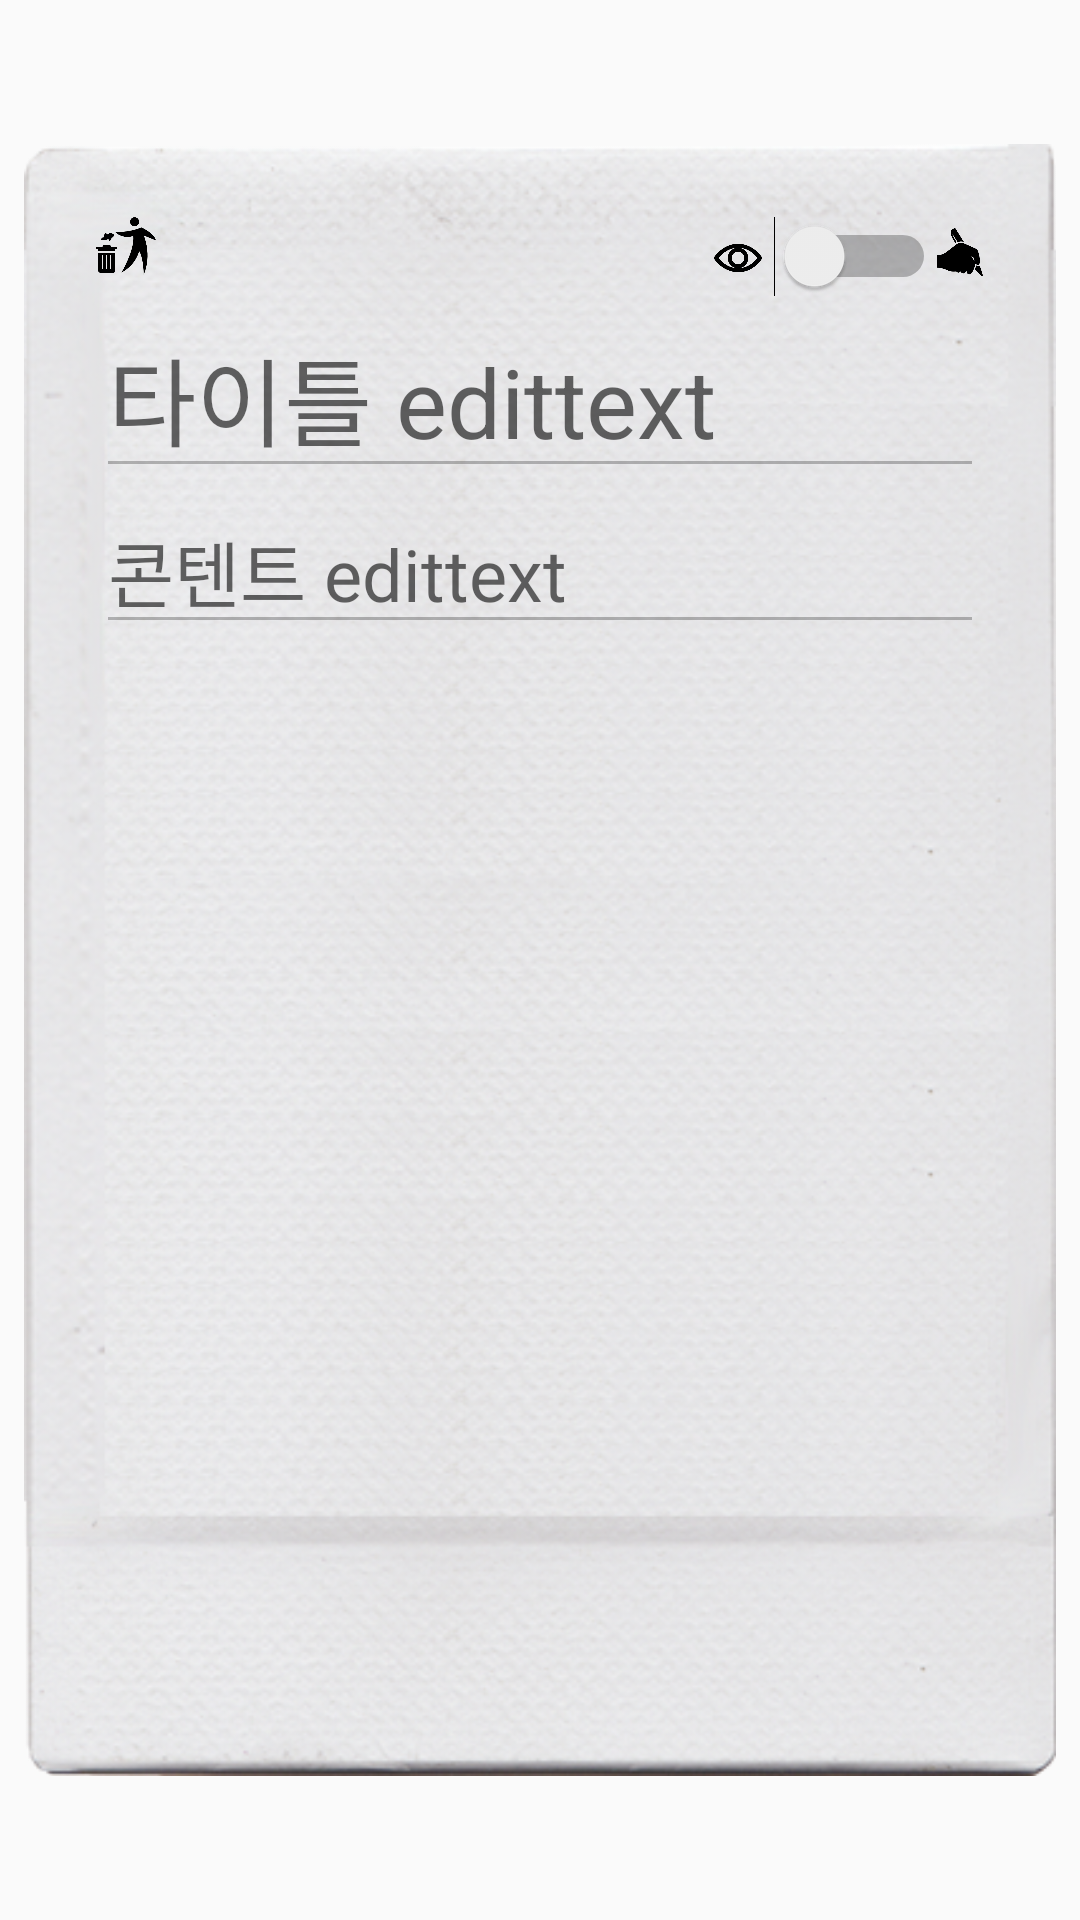

Locate icon controls on the screen. Image size 1080x1920, boxes as rect(x1, y1, x2, y2).
delete: rect(96, 217, 156, 273)
view: rect(714, 244, 762, 272)
write: rect(937, 228, 983, 276)
